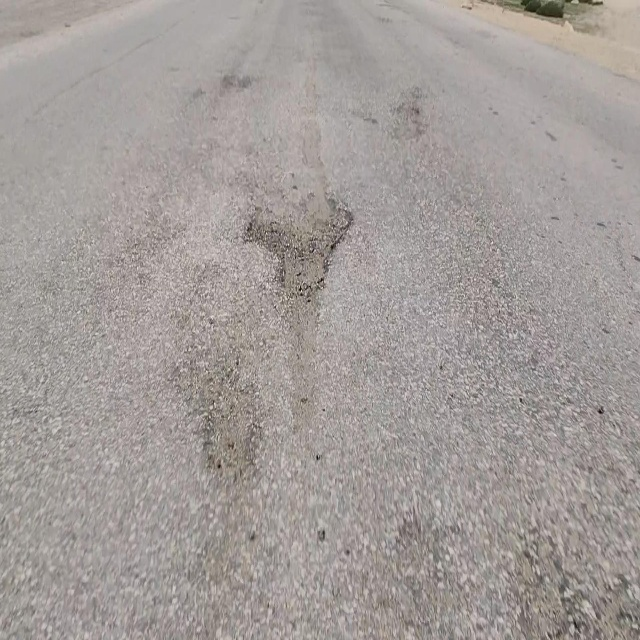pothole: (242, 178, 357, 305)
